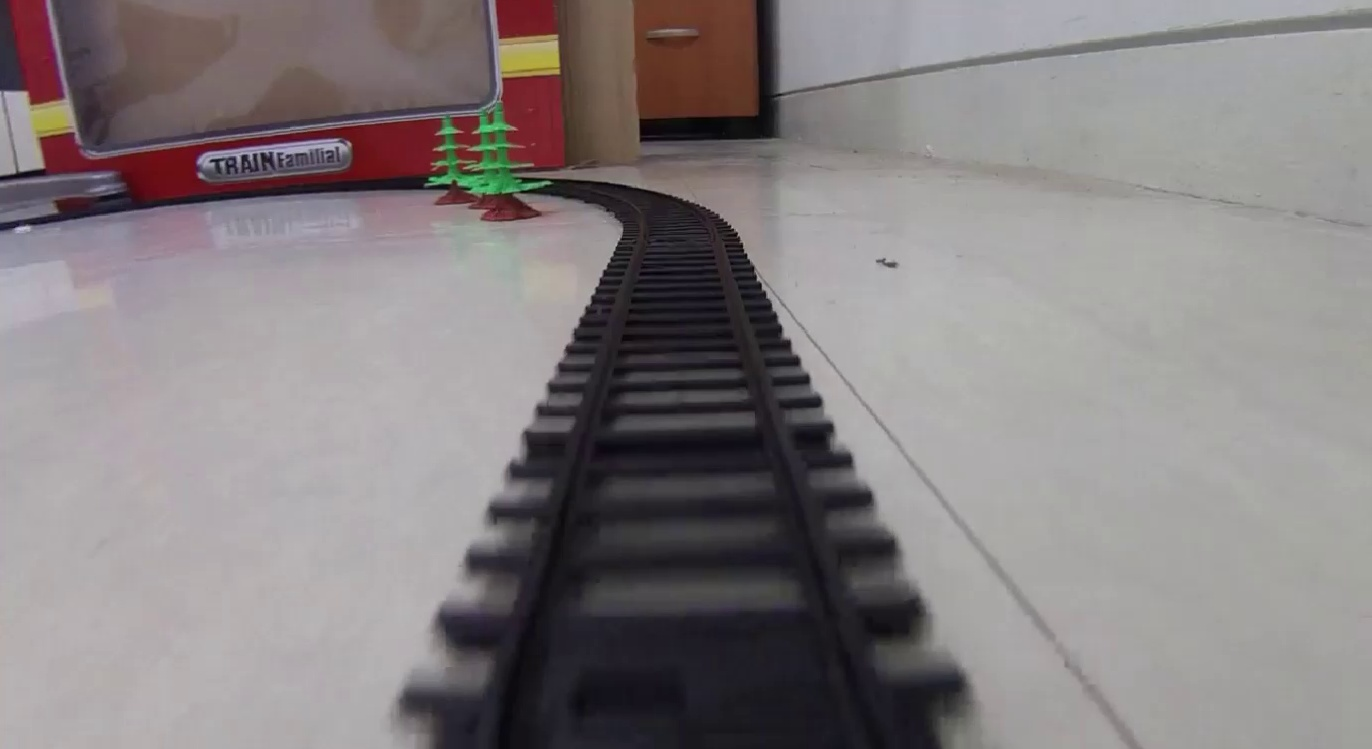tree: (473, 108, 540, 223), (432, 117, 474, 208)
